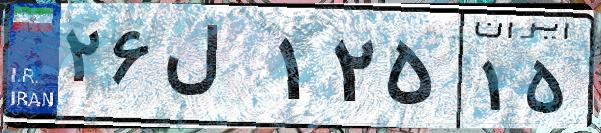1: (270, 28, 330, 110), (475, 38, 525, 113)
2: (330, 28, 385, 110), (57, 26, 110, 100)
5: (385, 28, 445, 110), (525, 38, 570, 115)
6: (110, 28, 158, 98)
ل: (158, 20, 270, 120)
